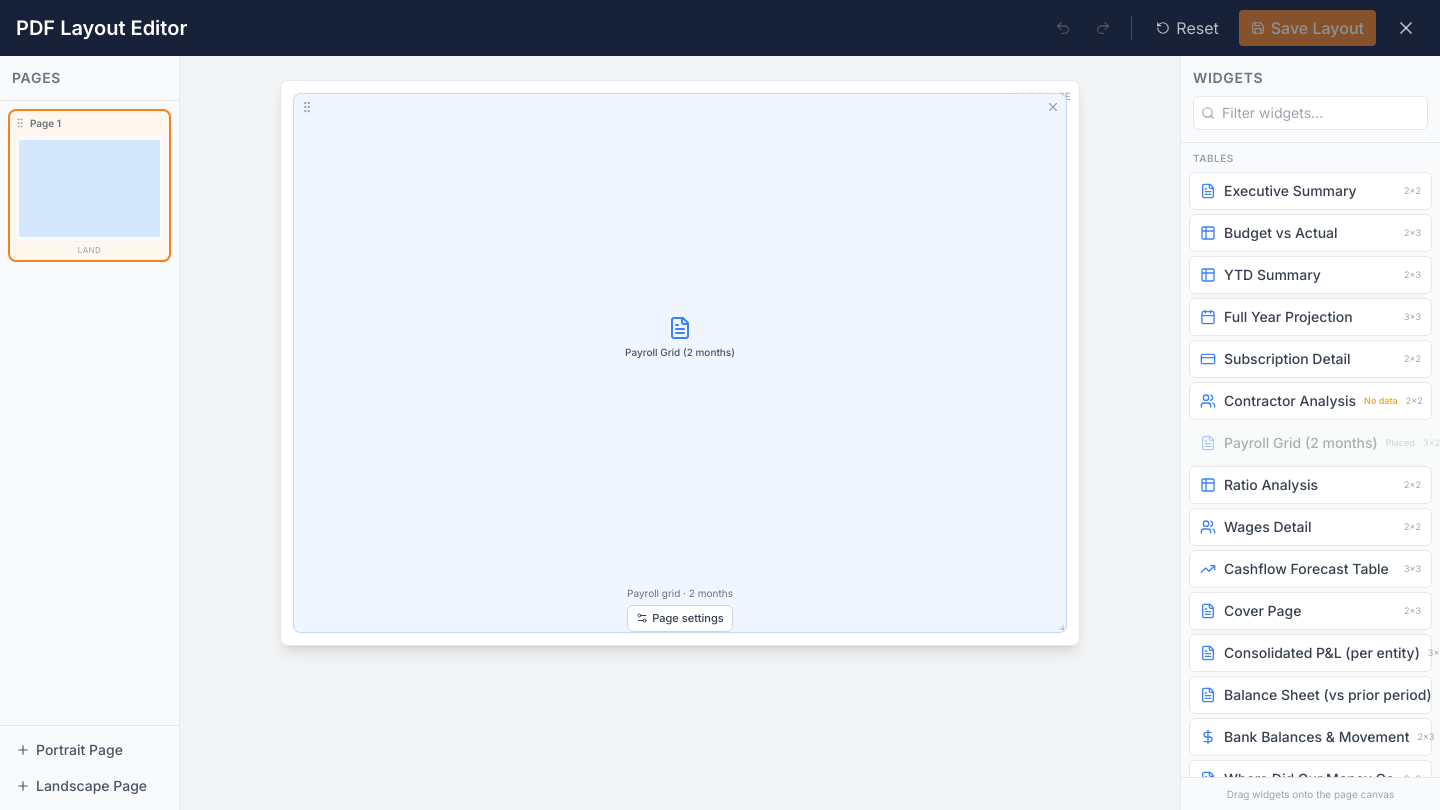
Distinct Directions' payrun pages › Escape closes the panel and leaves the layout alone
This screenshot has width=1440, height=810.
Click the button "Page settings": [680, 618] box top-left (627, 605), bottom-right (733, 632)
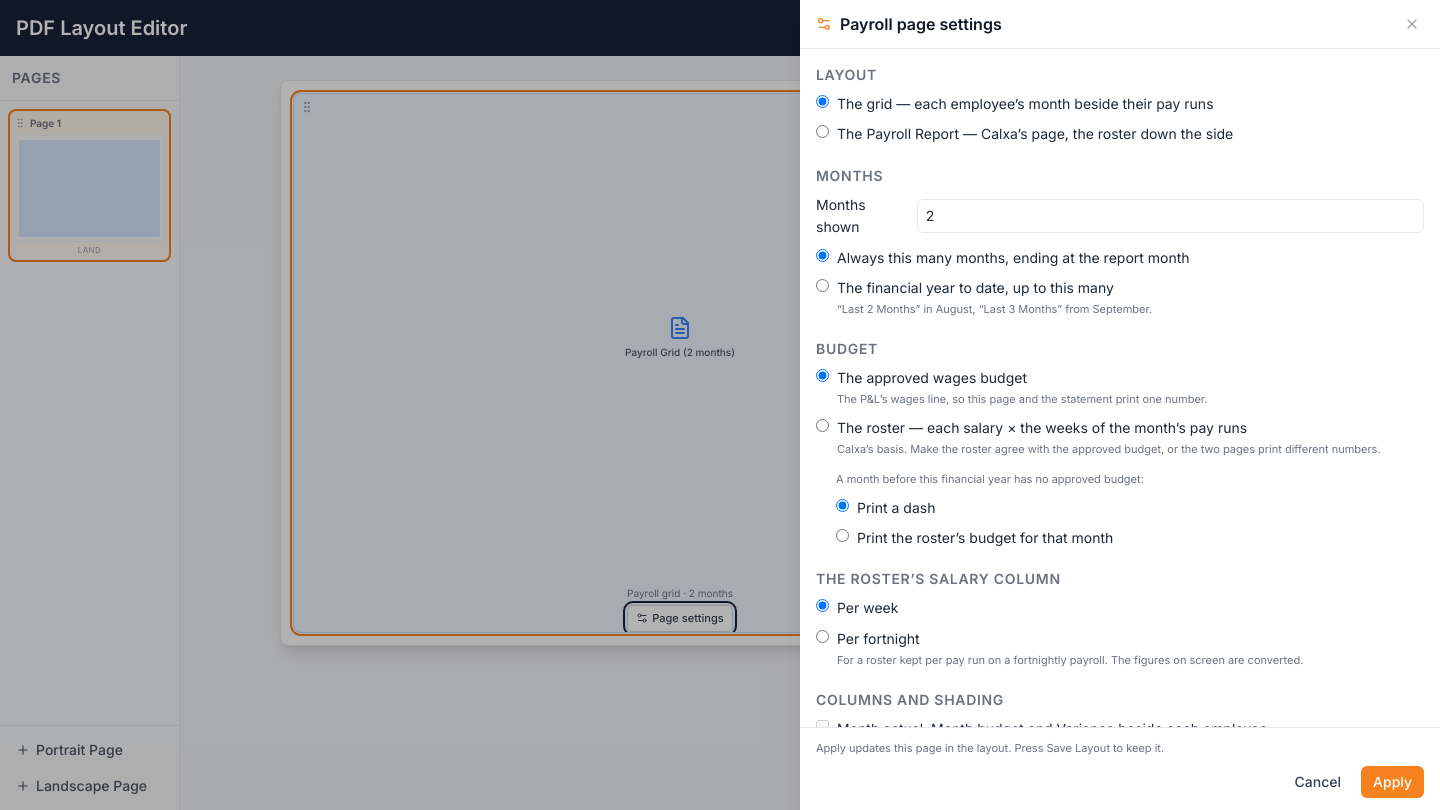
Click the radio button labelled "The Payroll Report — Calxa’s page, the roster down the side": [822, 132] box top-left (816, 125), bottom-right (829, 138)
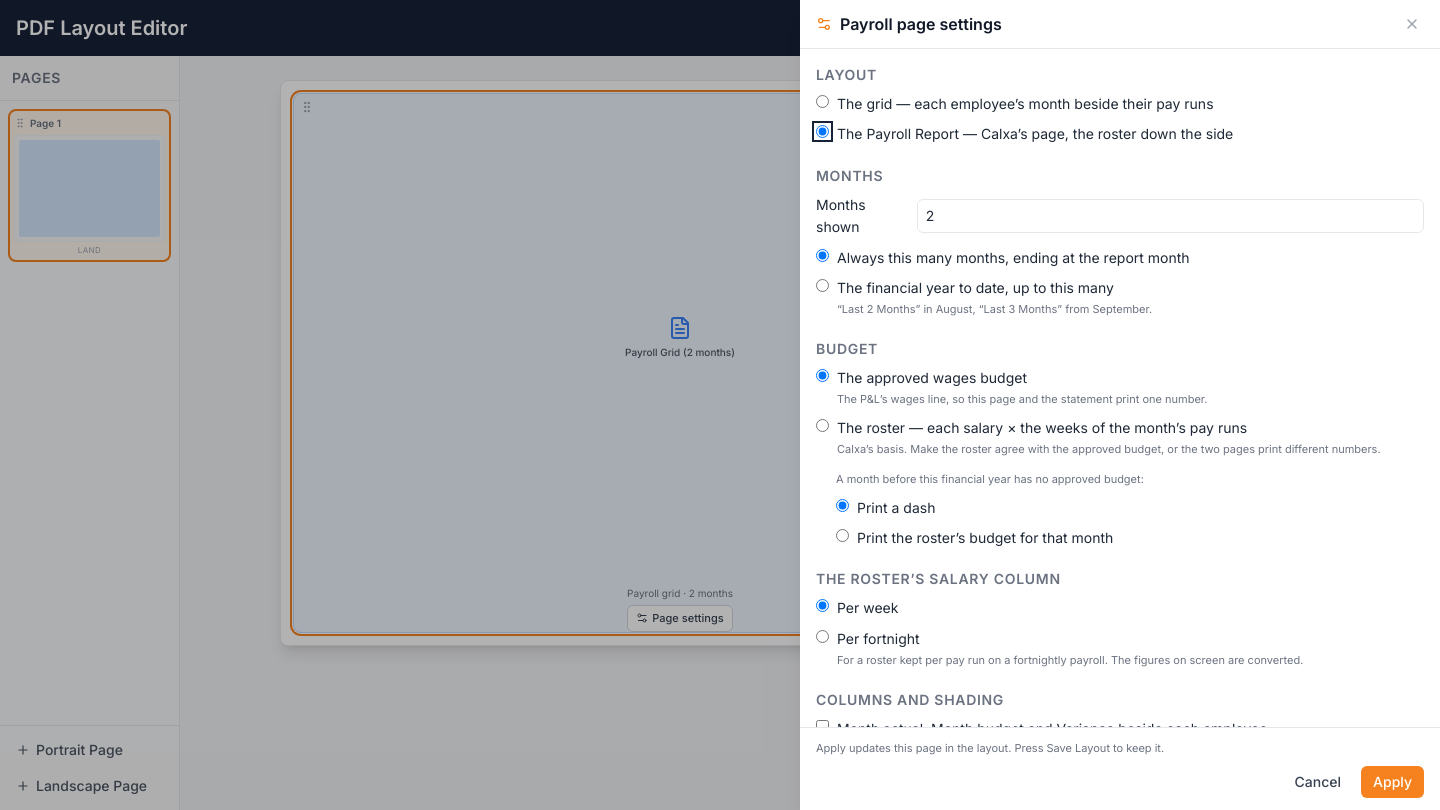
Press Escape
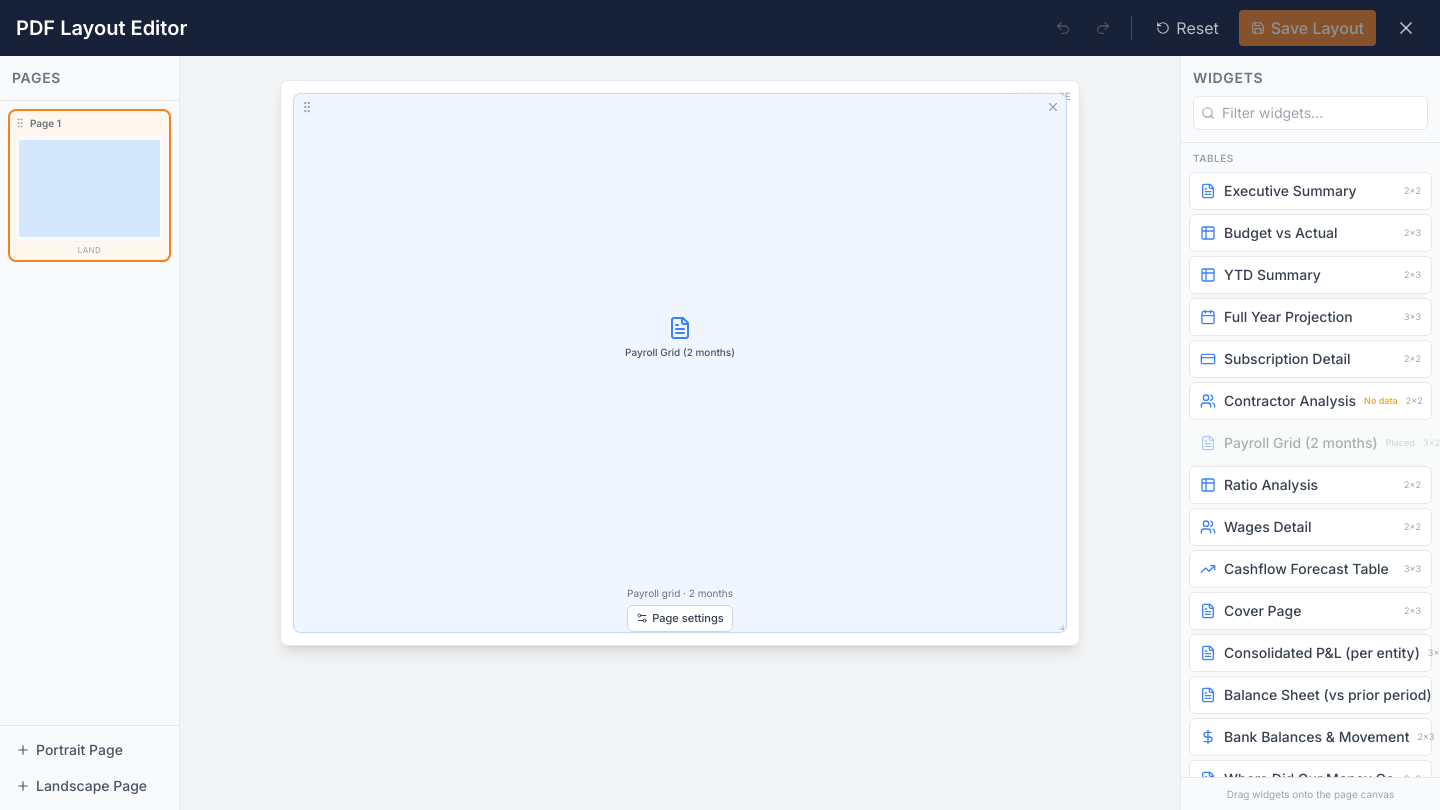
Expected: the text "Payroll grid · 2 months" is shown, top-left (627, 585), bottom-right (733, 601)
Result: the dialog is gone
